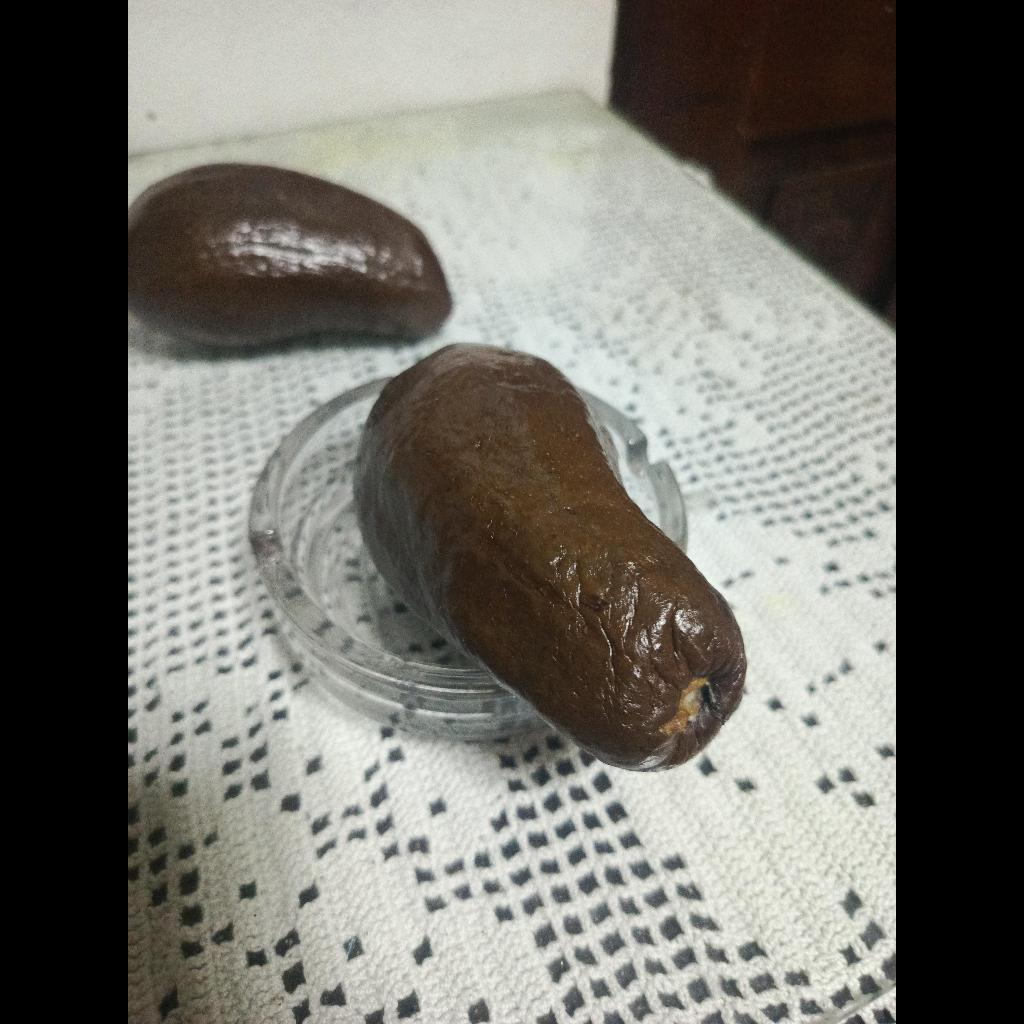stem end rot: (354, 344, 746, 770)
